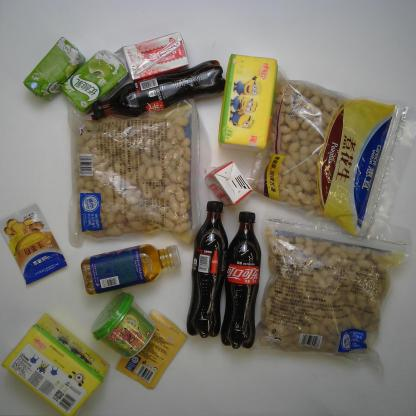Dried Food: (247, 64, 416, 246), (247, 198, 413, 379), (66, 98, 211, 249)
Drink: (91, 59, 226, 119), (186, 201, 228, 339), (220, 210, 261, 350), (80, 243, 181, 295)
Instant Drink: (91, 292, 157, 359)
Milk: (61, 49, 130, 114), (22, 36, 86, 102), (114, 31, 190, 82), (203, 160, 253, 208)
Seasoner: (114, 308, 188, 390), (0, 204, 68, 286)
Tissue: (0, 313, 110, 416), (217, 53, 279, 152)
